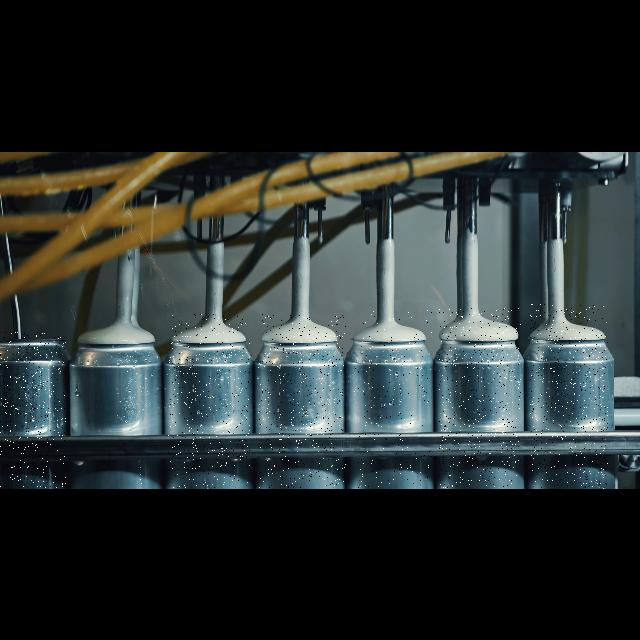empty: (0, 332, 66, 488)
full: (70, 312, 158, 488), (258, 314, 346, 488), (439, 308, 521, 488), (530, 304, 608, 488), (168, 314, 250, 488), (354, 310, 432, 488)
